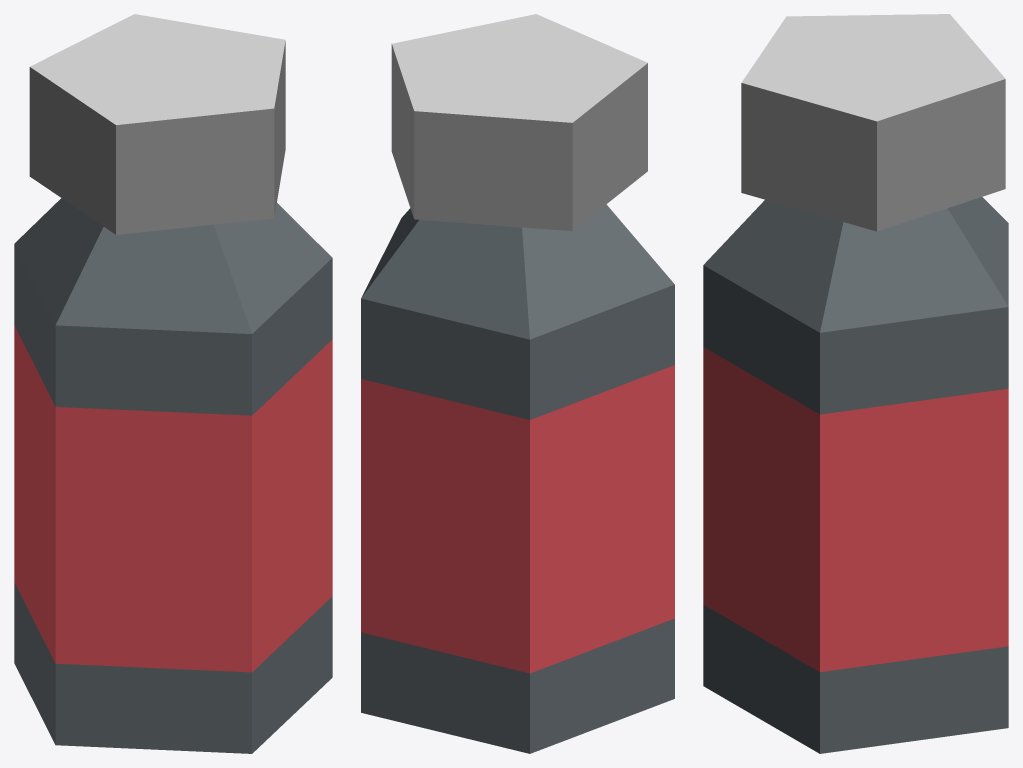
File: TB_D_Prop_Bottle_Small_A.FBX
3 views of the same model, side by side, from view 1: azimuth 30°, elevation 25°; view 2: azimuth 150°, elevation 25°; view 3: azimuth 270°, elevation 25° (orthographic).
Visible parts, largest first — view 1: TB_D_Prop_Bottle_Small_A; view 2: TB_D_Prop_Bottle_Small_A; view 3: TB_D_Prop_Bottle_Small_A.
Boxes of the visible parts, left/top/right/bottom form: TB_D_Prop_Bottle_Small_A: left=14, top=14, right=332, bottom=753; TB_D_Prop_Bottle_Small_A: left=361, top=14, right=674, bottom=753; TB_D_Prop_Bottle_Small_A: left=703, top=14, right=1008, bottom=753.
Bounding box in the file's own units: 0.2856 × 0.6123 × 0.2716.
